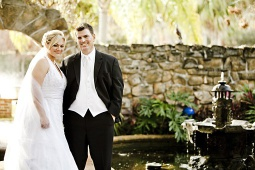female: (40, 28, 68, 63)
male: (73, 21, 103, 62)
